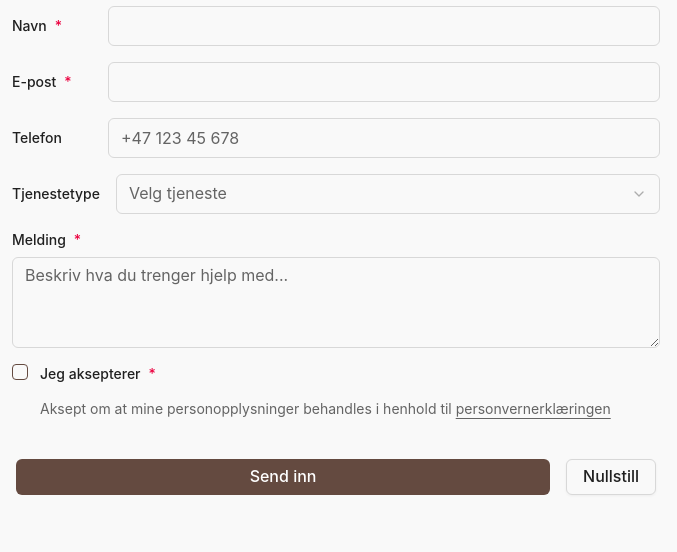
ContactForm › should validate Norwegian email format
Type "invalid-email" into the field labelled "E-post *" at (384, 82), box [108, 62, 660, 102]
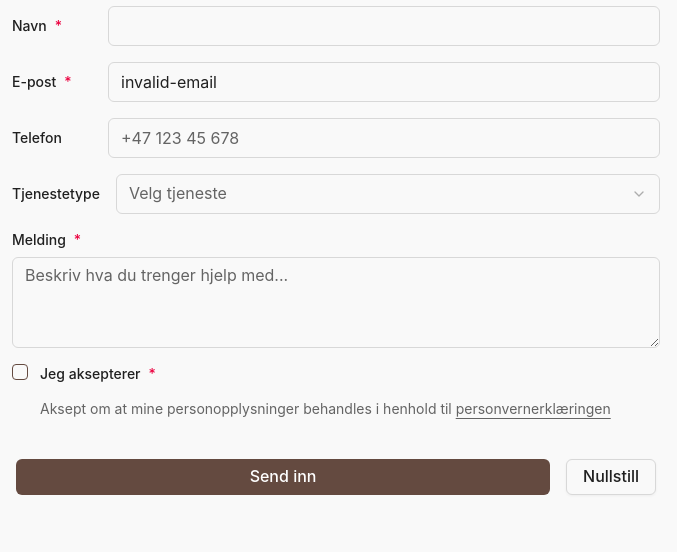
Click the button "Send inn" at (283, 477), box [16, 459, 550, 495]
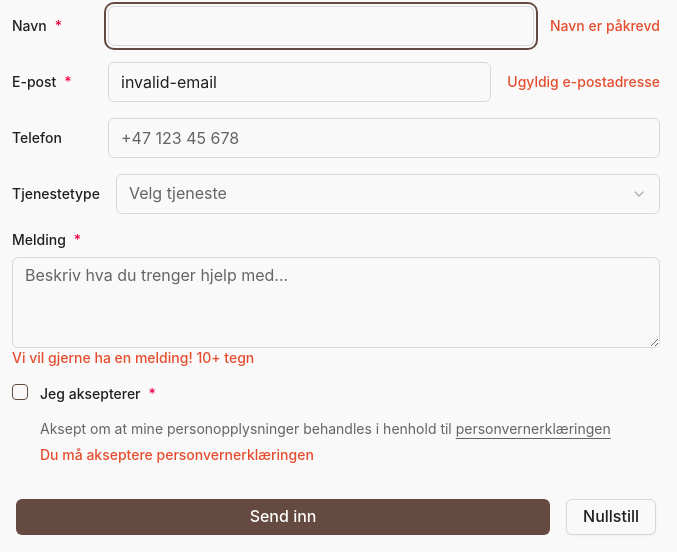
Now the text "Ugyldig e-postadresse" is shown, box [491, 72, 660, 92]
